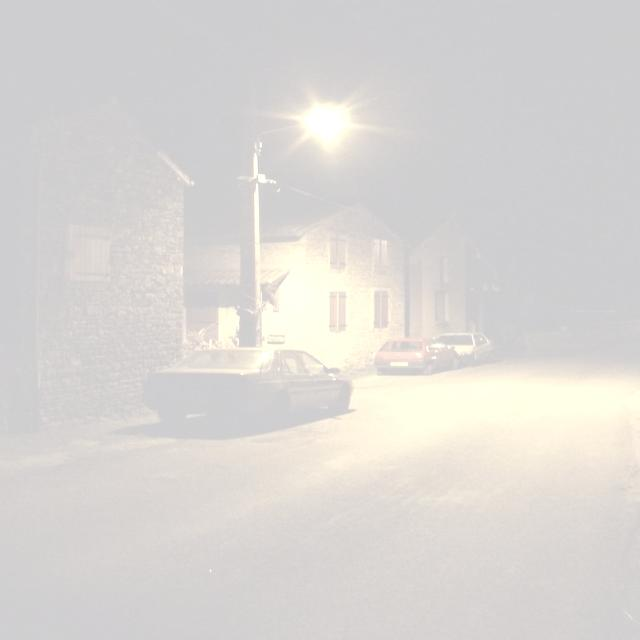Car: (122, 297, 358, 462), (380, 294, 526, 398)
